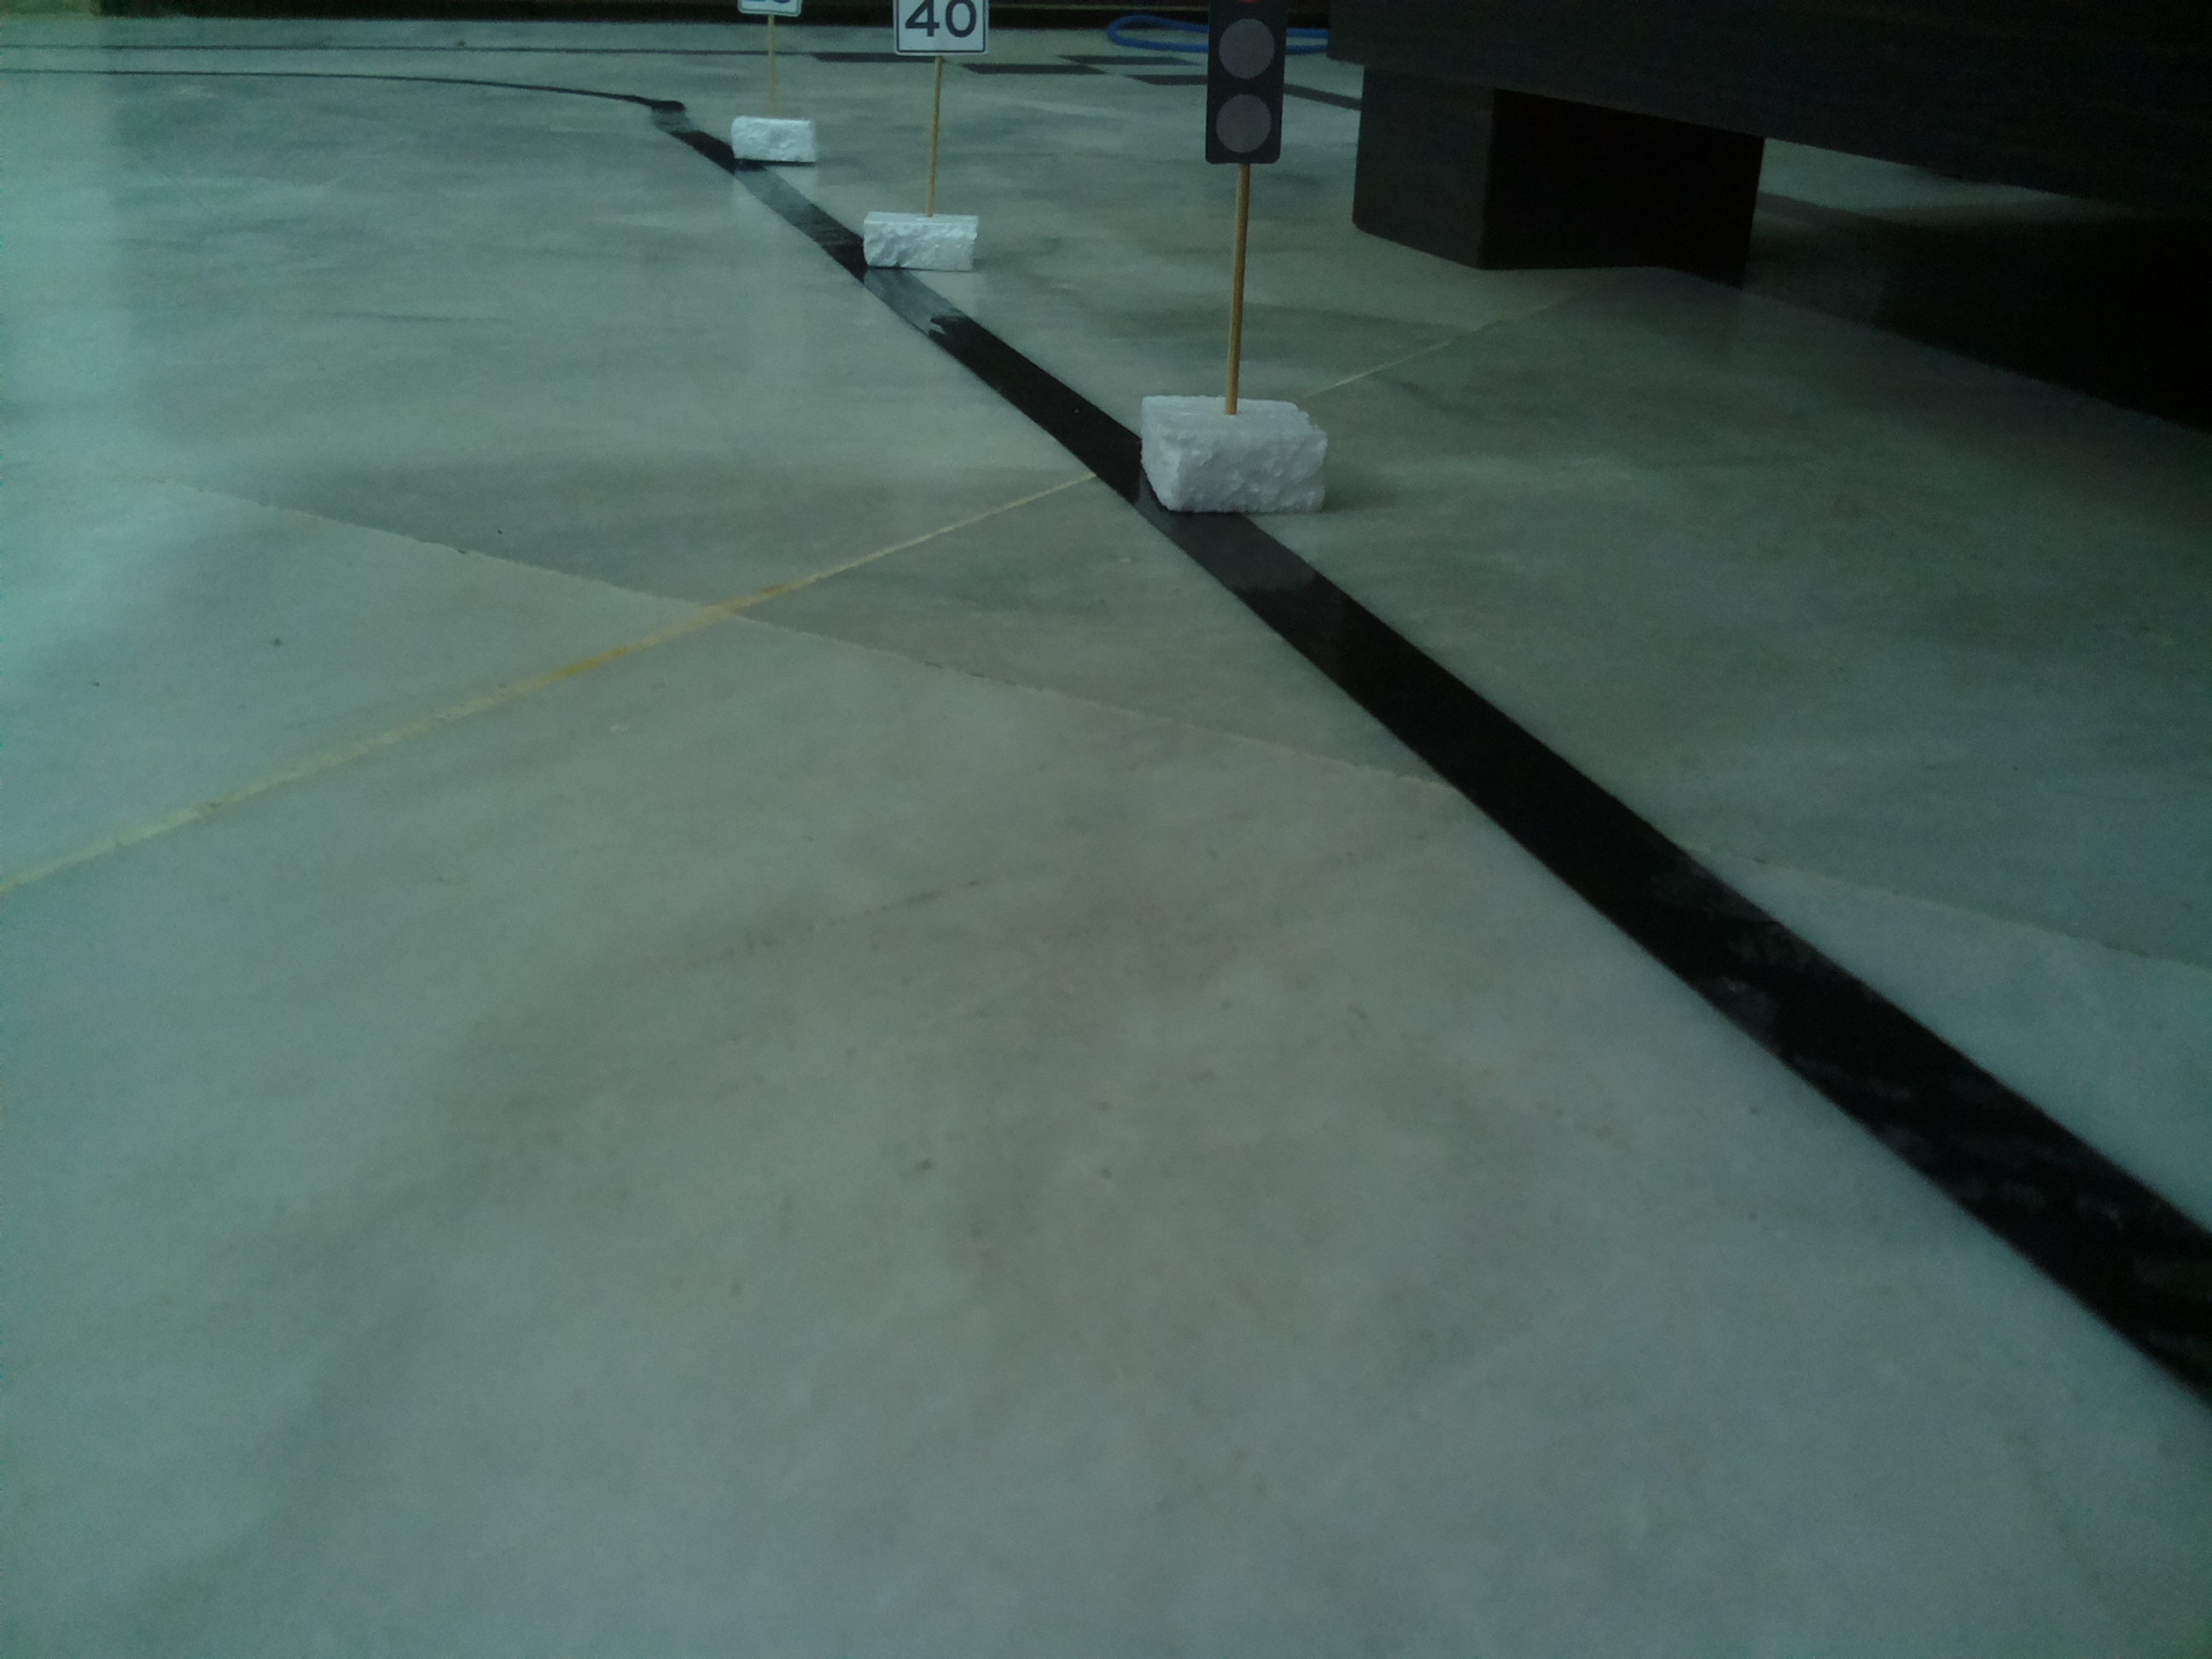Speed limit 40: (890, 0, 996, 58)
